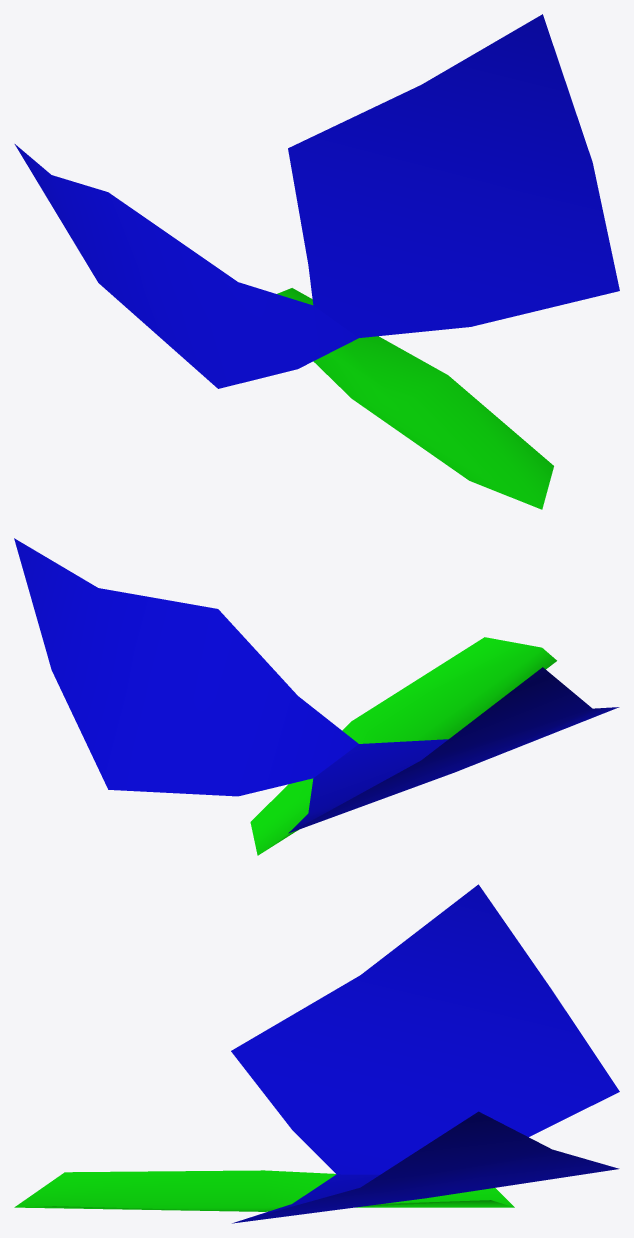
The model's file is SM_Skyboxbird_01.FBX.
The picture shows the model from 3 angles, top to bottom: view 1: azimuth 30°, elevation 25°; view 2: azimuth 150°, elevation 25°; view 3: azimuth 270°, elevation 25°; orthographic projection. The views are drawn at different scales.
Visible parts, largest first — view 1: SM_Skyboxbird_01; view 2: SM_Skyboxbird_01; view 3: SM_Skyboxbird_01.
Part boxes in pixels (x1,y1,x2,y2): SM_Skyboxbird_01: (14, 14, 619, 509); SM_Skyboxbird_01: (14, 538, 619, 855); SM_Skyboxbird_01: (14, 884, 619, 1223).
Size of the model in its own units: 69.66 by 78.51 by 29.98.
